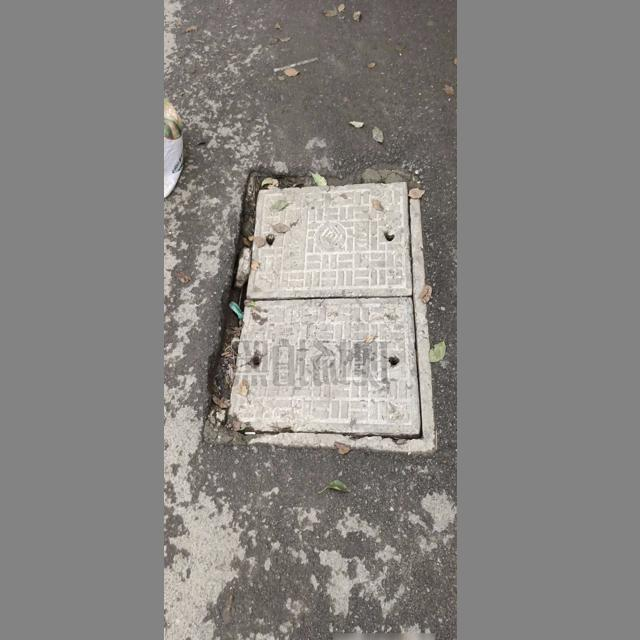circle: (201, 169, 433, 452)
